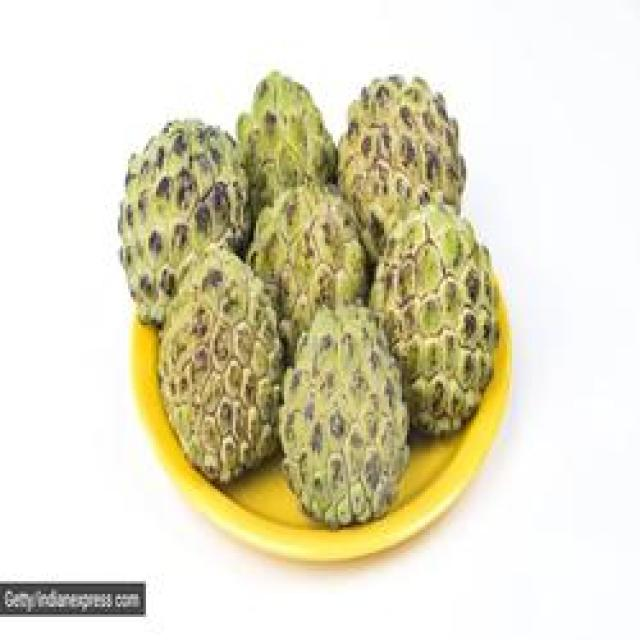apple: (282, 300, 414, 538), (369, 202, 499, 443), (161, 254, 292, 486), (115, 110, 254, 325), (343, 59, 479, 256), (251, 179, 386, 346), (238, 66, 358, 212)
